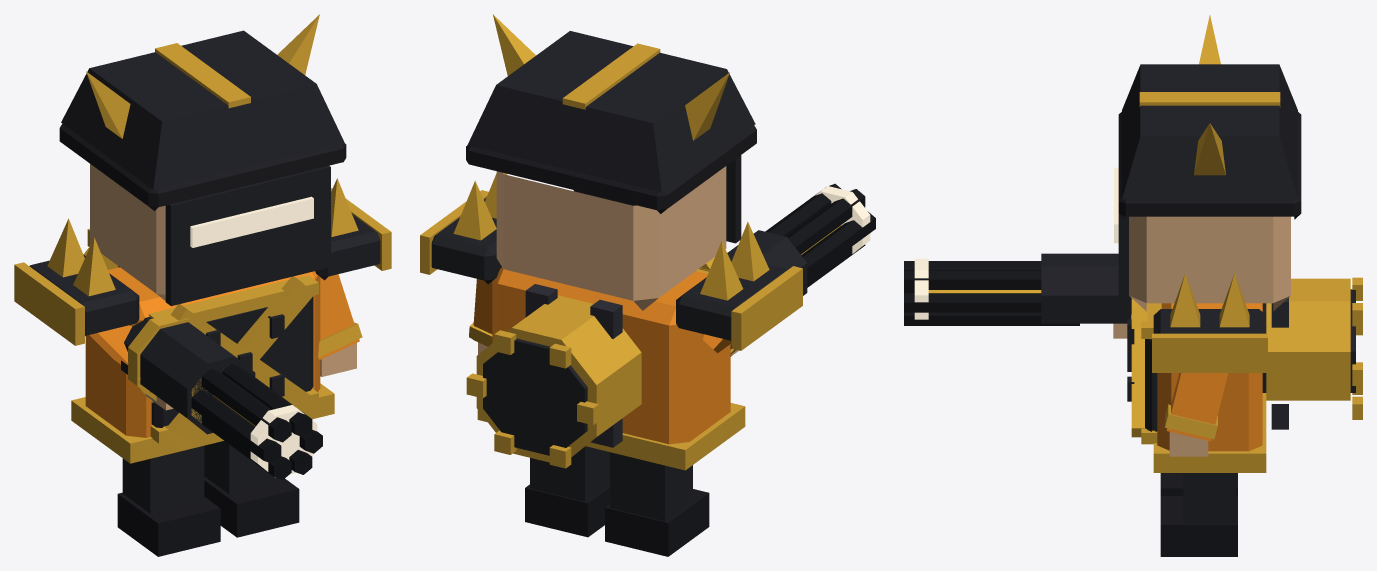
Rendered from machine_gunner_legend.glb.
The picture shows the model from 3 angles, left to right: view 1: azimuth 30°, elevation 25°; view 2: azimuth 150°, elevation 25°; view 3: azimuth 270°, elevation 25°; orthographic projection. The views are drawn at different scales.
Visible parts, largest first — view 1: machine_gunner_legend_mesh; view 2: machine_gunner_legend_mesh; view 3: machine_gunner_legend_mesh.
Boxes of the visible parts, <box> form: machine_gunner_legend_mesh: <box>14,14,391,556</box>; machine_gunner_legend_mesh: <box>420,14,875,556</box>; machine_gunner_legend_mesh: <box>904,15,1362,556</box>.
Bounding box in the file's own units: 0.8999 × 1.3 × 1.19.
2 materials, 2 textured.
